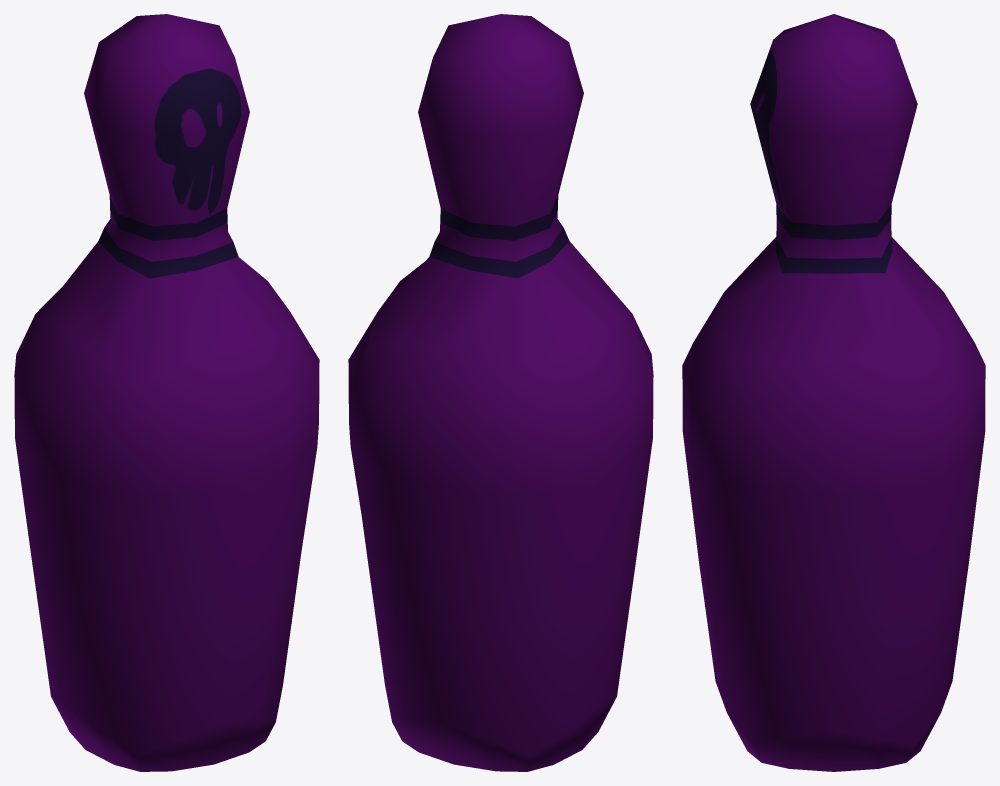
File: giant_bowling_alley_pin.fbx
The picture shows the model from 3 angles, left to right: view 1: azimuth 30°, elevation 25°; view 2: azimuth 150°, elevation 25°; view 3: azimuth 270°, elevation 25°; orthographic projection.
Visible parts, largest first — view 1: geo_giant_bowling_alley_pin; view 2: geo_giant_bowling_alley_pin; view 3: geo_giant_bowling_alley_pin.
Boxes of the visible parts, x1,y1,x2,y2 form: geo_giant_bowling_alley_pin: (14,14,319,771); geo_giant_bowling_alley_pin: (348,14,653,771); geo_giant_bowling_alley_pin: (682,14,985,771).
Bounding box in the file's own units: 2.07 × 2.07 × 5.4.
Materials: 1 (1 with a texture image).
